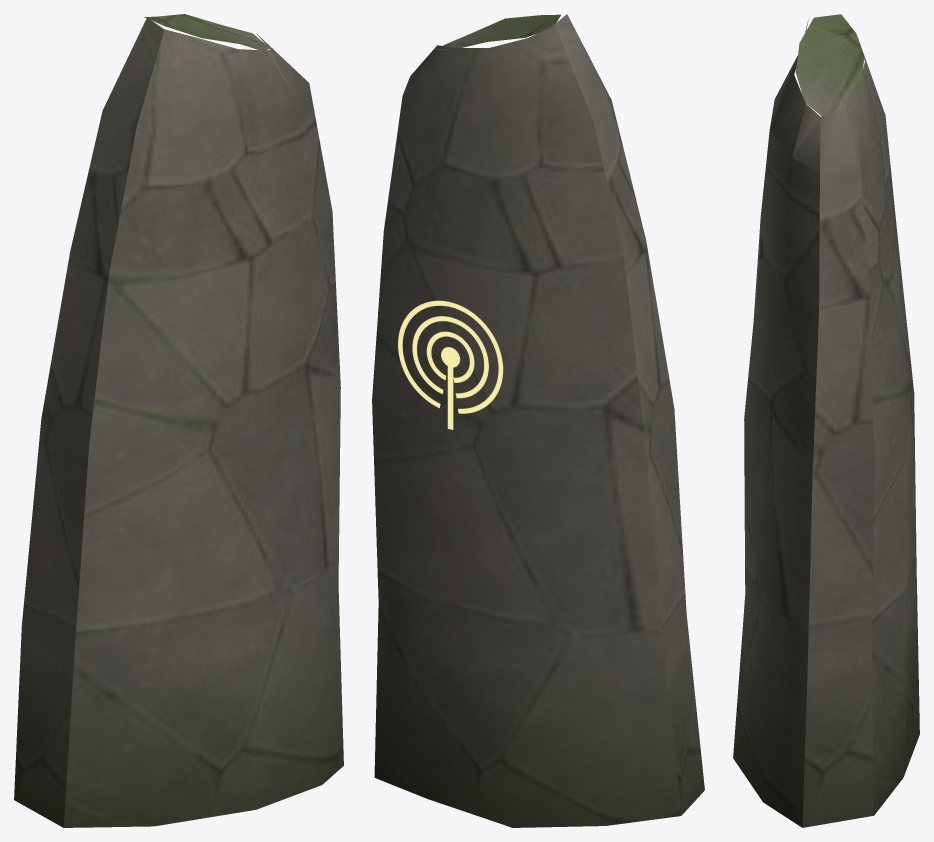
The model's file is camp_standing_stone.glb.
3 renders of one model, left to right at view 1: azimuth 30°, elevation 25°; view 2: azimuth 150°, elevation 25°; view 3: azimuth 270°, elevation 25°, orthographic. The views are drawn at different scales.
Visible parts, largest first — view 1: camp_standing_stone; view 2: camp_standing_stone; view 3: camp_standing_stone.
Boxes of the visible parts, x1,y1,x2,y2 form: camp_standing_stone: (14,14,343,827); camp_standing_stone: (372,14,704,827); camp_standing_stone: (733,14,919,827).
Size of the model in its own units: 0.9987 by 2.39 by 0.5539.
Materials: 2 (2 with a texture image).
